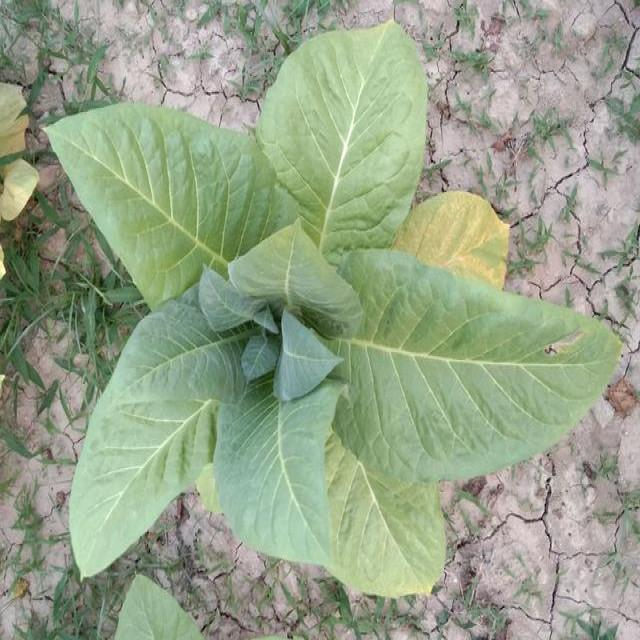crop: (55, 23, 614, 594), (111, 582, 201, 634)
